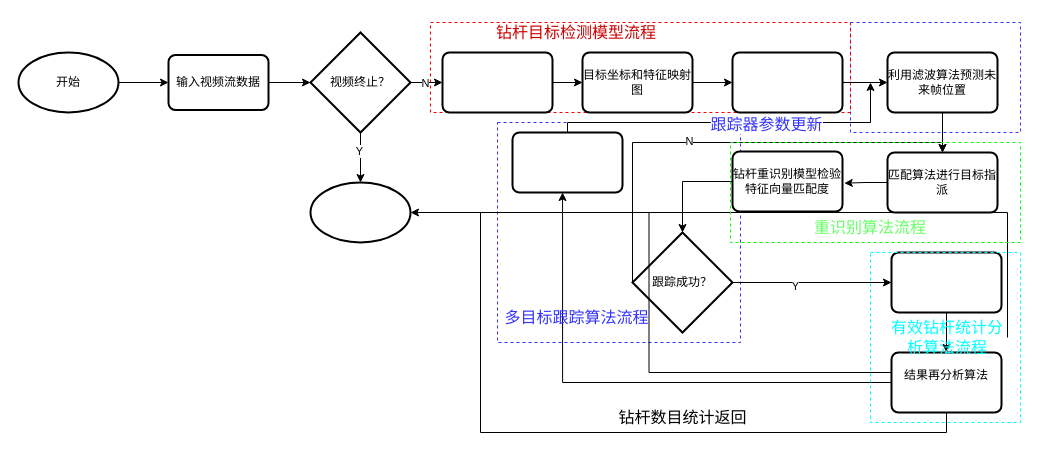
The diagram is 1038 pixels wide and 451 high, and some of its shapes have lost their labels. The centre of each missing label's shape, as x and y in pixels:
"目标跟踪器参数更新" goes at (x=567, y=162).
"结束" goes at (x=360, y=212).
"钻杆目标检测模型" goes at (x=497, y=82).
"钻杆目标累计更新" goes at (x=946, y=282).
"非极大值抑制方法去除重叠以及置信度的钻杆目标" goes at (x=787, y=82).
